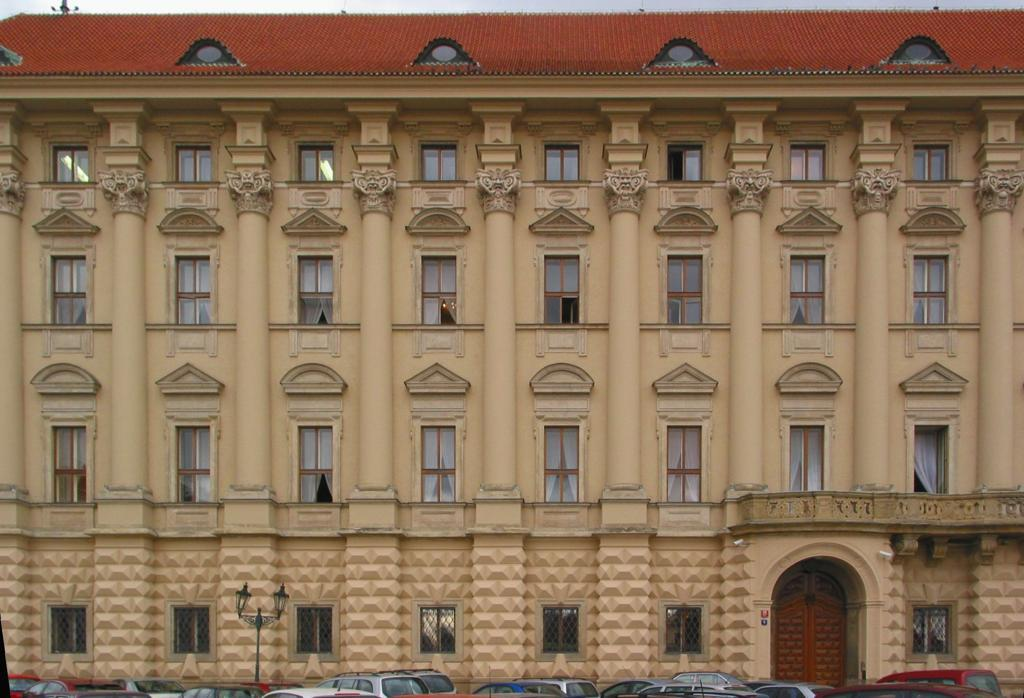window: (175, 426, 211, 502), (298, 426, 333, 503), (52, 426, 86, 503), (545, 426, 579, 503), (667, 426, 701, 503), (421, 426, 455, 502), (544, 255, 579, 324), (51, 255, 86, 324), (914, 255, 949, 323), (175, 256, 210, 324), (791, 255, 825, 324), (668, 255, 702, 324), (915, 426, 949, 495), (298, 256, 333, 323), (422, 256, 456, 324), (791, 426, 824, 492), (912, 606, 952, 653), (48, 606, 86, 654), (542, 606, 580, 654), (665, 606, 703, 654), (172, 606, 209, 654), (419, 606, 455, 653), (297, 608, 332, 654), (53, 147, 89, 183), (914, 145, 949, 180), (545, 145, 580, 180), (299, 146, 334, 181), (177, 146, 211, 182), (792, 145, 826, 180), (668, 146, 703, 180), (422, 145, 456, 180), (195, 44, 223, 62), (905, 42, 933, 60), (667, 44, 695, 62), (431, 45, 460, 62)
